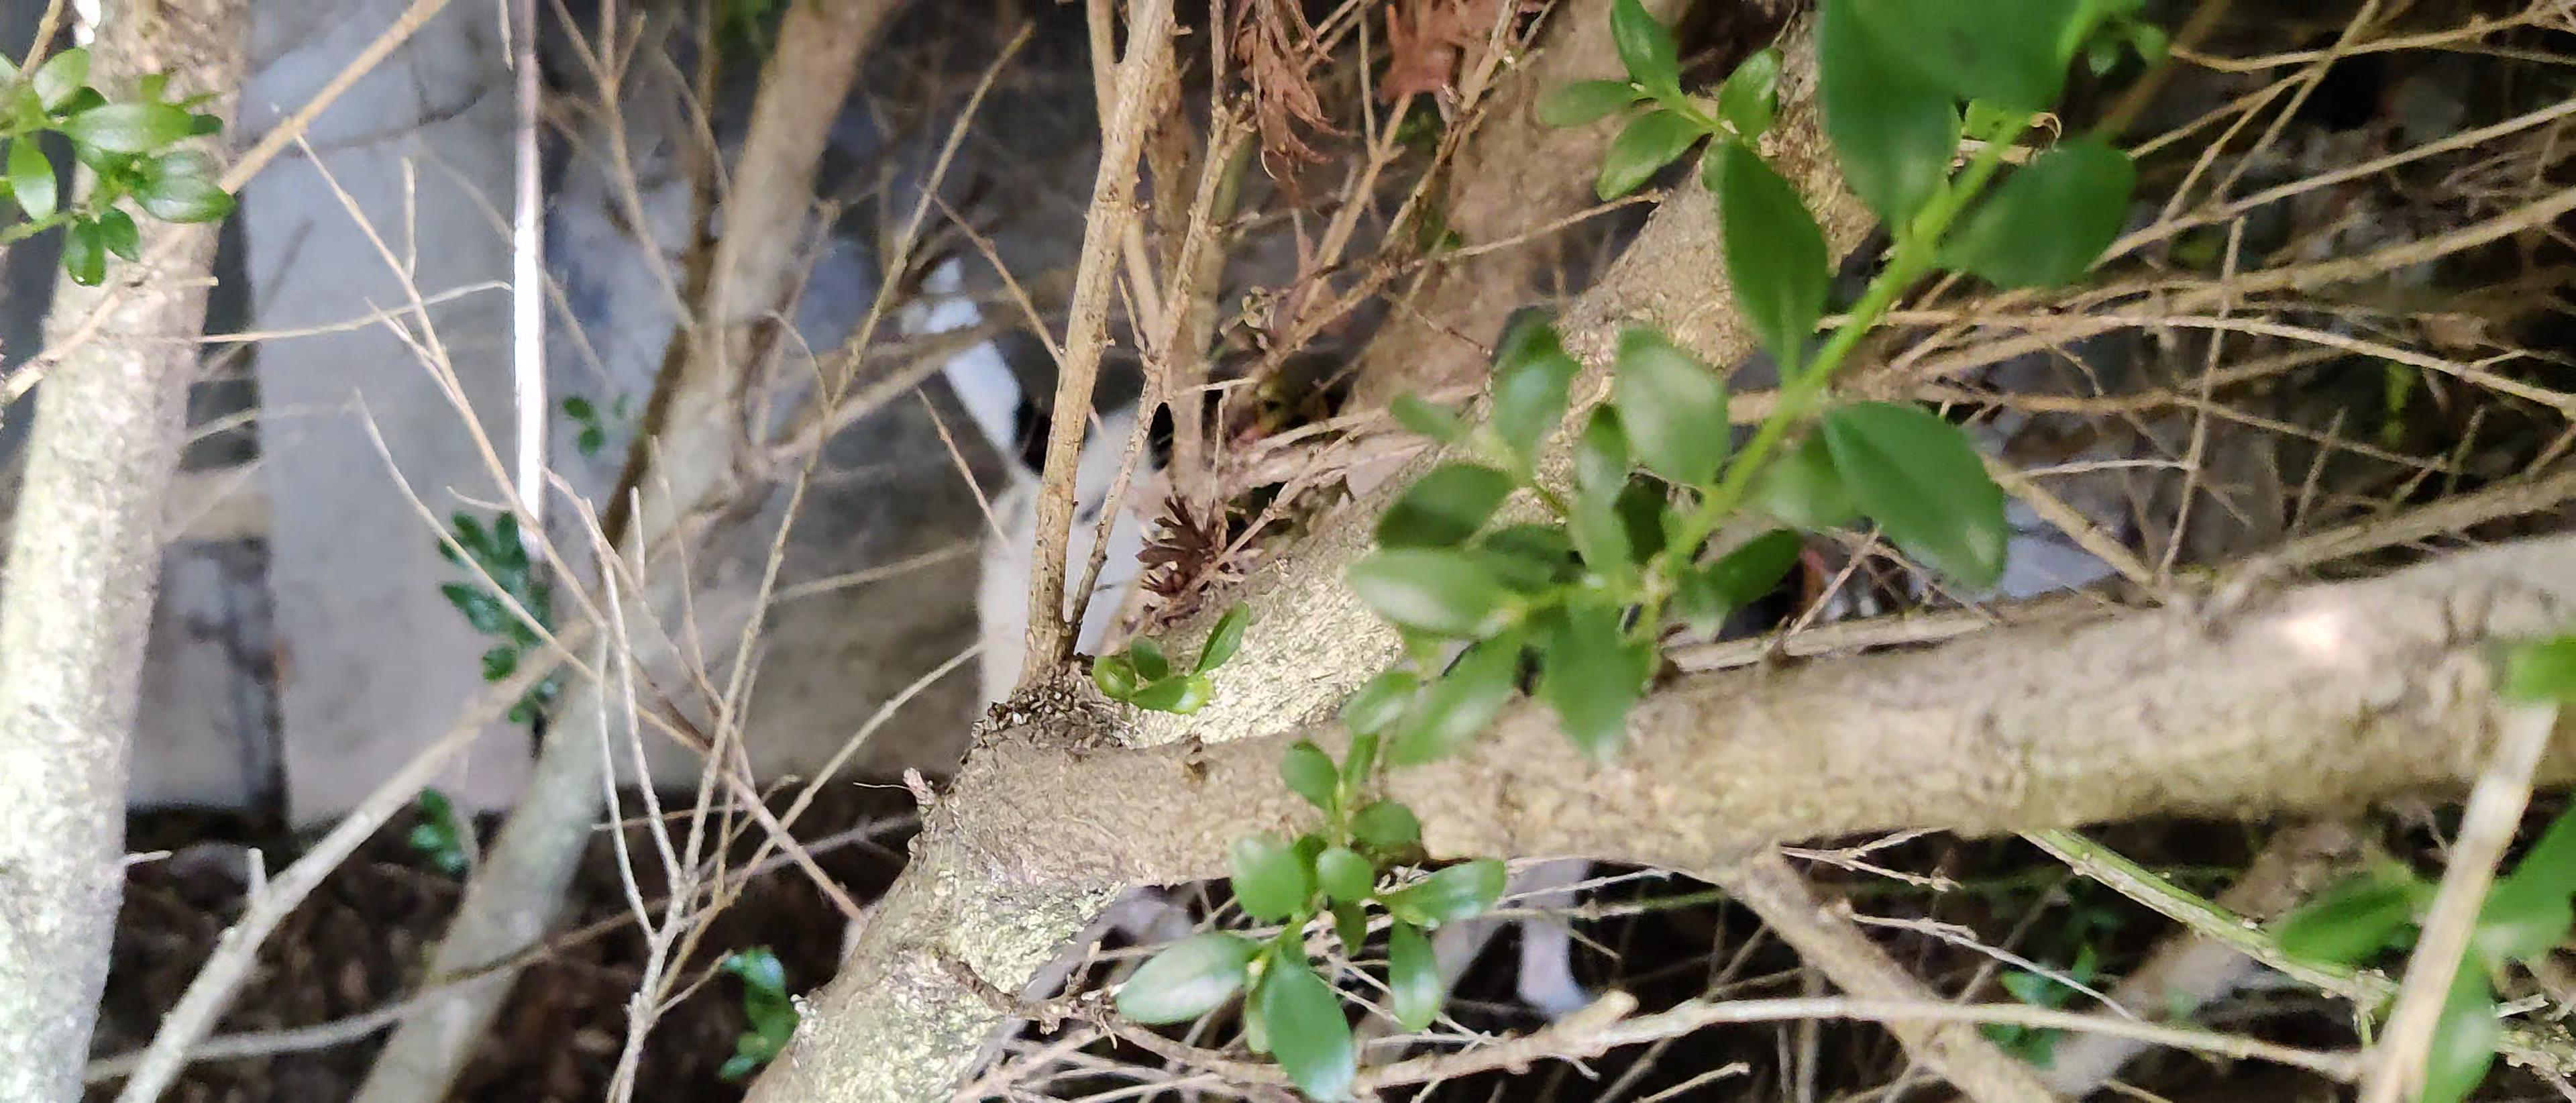Dog: (846, 156, 1672, 1103)
